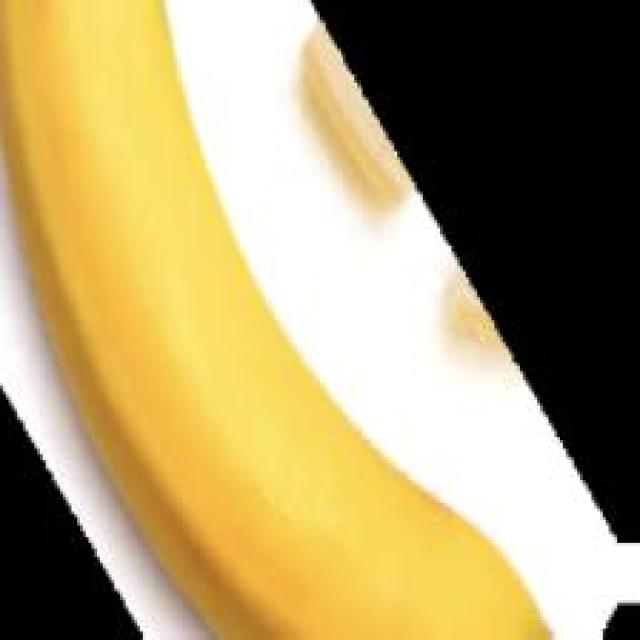banana: (2, 5, 606, 640)
